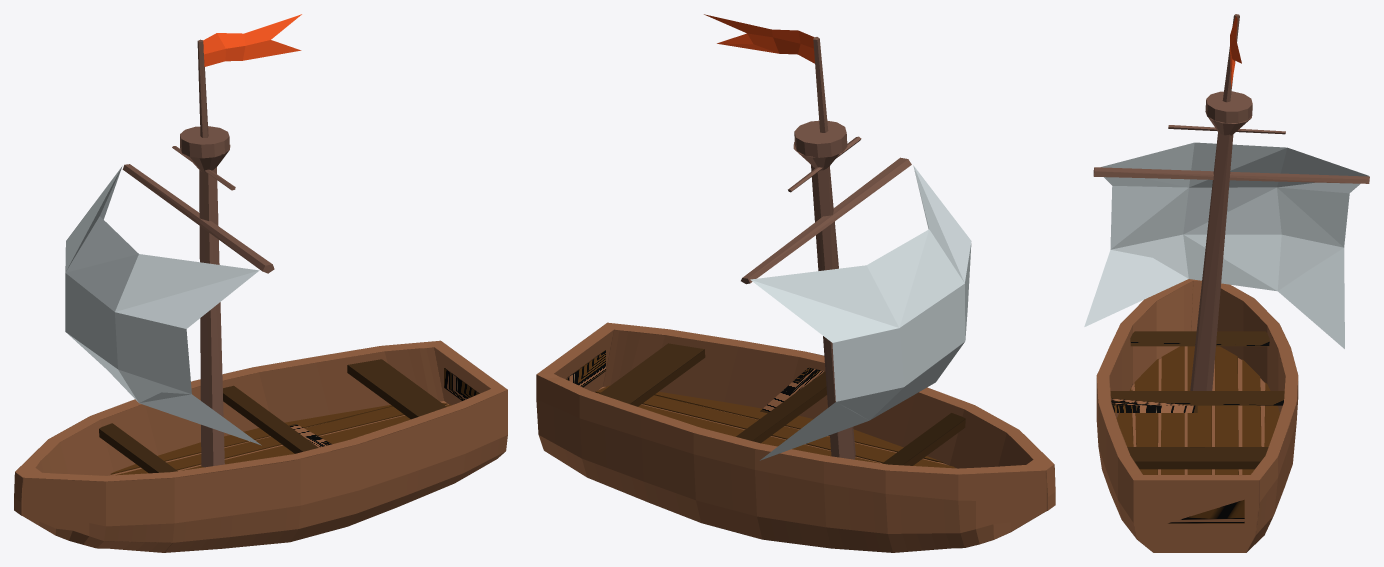
File: boat-actual.glb
3 renders of one model, left to right at view 1: azimuth 30°, elevation 25°; view 2: azimuth 150°, elevation 25°; view 3: azimuth 270°, elevation 25°, orthographic. The views are drawn at different scales.
Parts seen in each view (by area): view 1: CUPIC_ROWBOAT.001, mesh332277712, mesh160643830, mesh176709460, mesh1114292199, mesh902011829, mesh2135937358; view 2: CUPIC_ROWBOAT.001, mesh332277712, mesh160643830, mesh1114292199, mesh176709460, mesh902011829, mesh2135937358; view 3: CUPIC_ROWBOAT.001, mesh332277712, mesh160643830, mesh1114292199, mesh902011829, mesh176709460, mesh1958607880, mesh2135937358.
Part boxes in pixels (x1,y1,x2,y2): CUPIC_ROWBOAT.001: (14,340,507,552); mesh332277712: (65,166,261,445); mesh160643830: (199,167,224,467); mesh176709460: (203,14,301,66); mesh1114292199: (122,164,274,273); mesh902011829: (180,126,229,158); mesh2135937358: (197,39,208,137); CUPIC_ROWBOAT.001: (536,322,1055,552); mesh332277712: (750,165,971,460); mesh160643830: (811,165,855,459); mesh1114292199: (741,157,911,284); mesh176709460: (704,14,814,63); mesh902011829: (794,120,847,157); mesh2135937358: (813,37,828,132); CUPIC_ROWBOAT.001: (1096,279,1298,552); mesh332277712: (1084,142,1369,348); mesh160643830: (1190,132,1233,390); mesh1114292199: (1093,167,1369,183); mesh902011829: (1205,91,1252,123); mesh176709460: (1230,16,1241,88); mesh1958607880: (1168,125,1285,134); mesh2135937358: (1222,14,1239,102).
Size of the model in its own units: 77.34 by 74.44 by 44.02.
5 materials, 1 textured.
